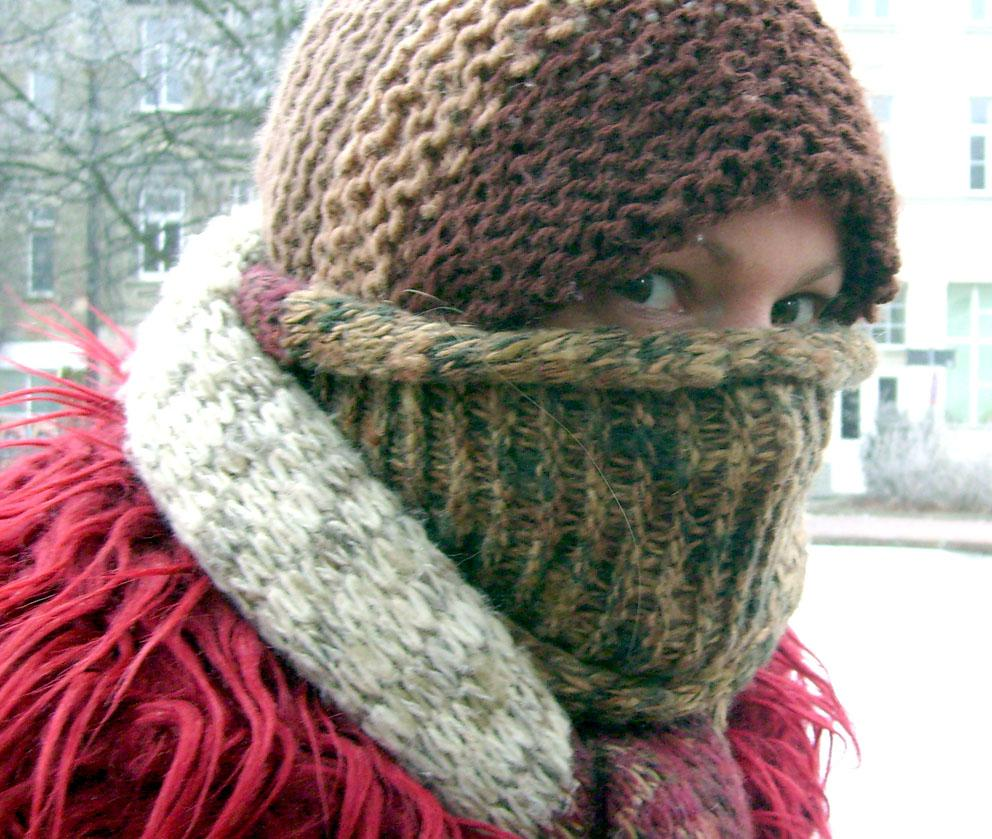OK: (383, 157, 865, 639)
